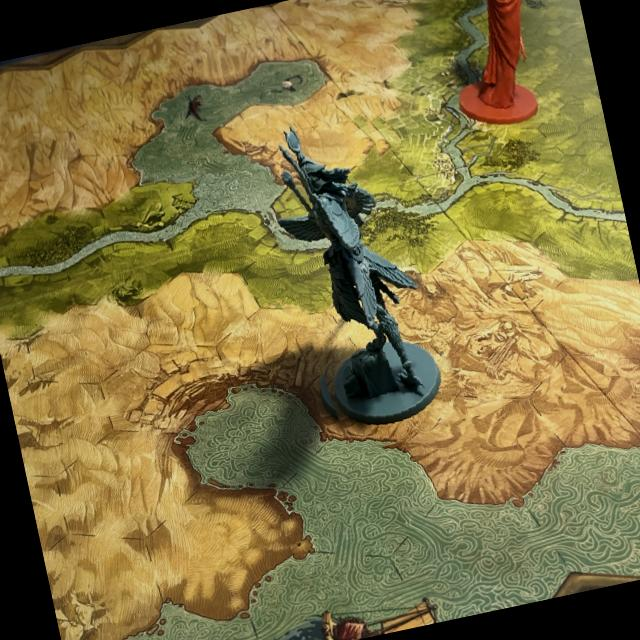amon: (430, 0, 565, 137)
isis: (246, 88, 462, 460)
